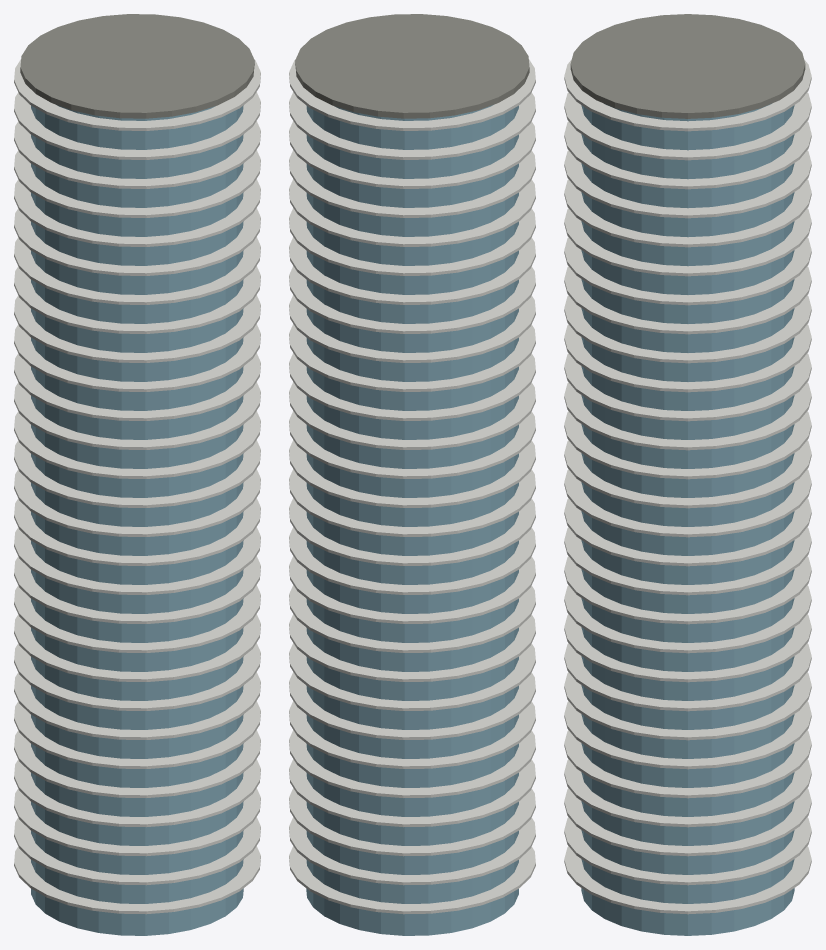
Rendered from TorreBalcones.obj.
The picture shows the model from 3 angles, left to right: view 1: azimuth 30°, elevation 25°; view 2: azimuth 150°, elevation 25°; view 3: azimuth 270°, elevation 25°; orthographic projection.
Parts seen in each view (by area): view 1: TorreBalcones; view 2: TorreBalcones; view 3: TorreBalcones.
Boxes of the visible parts, x1=… form: TorreBalcones: x1=14, y1=14, x2=260, y2=935; TorreBalcones: x1=289, y1=14, x2=535, y2=935; TorreBalcones: x1=564, y1=14, x2=811, y2=935.
Bounding box in the file's own units: 23.2 × 85.6 × 23.2.
